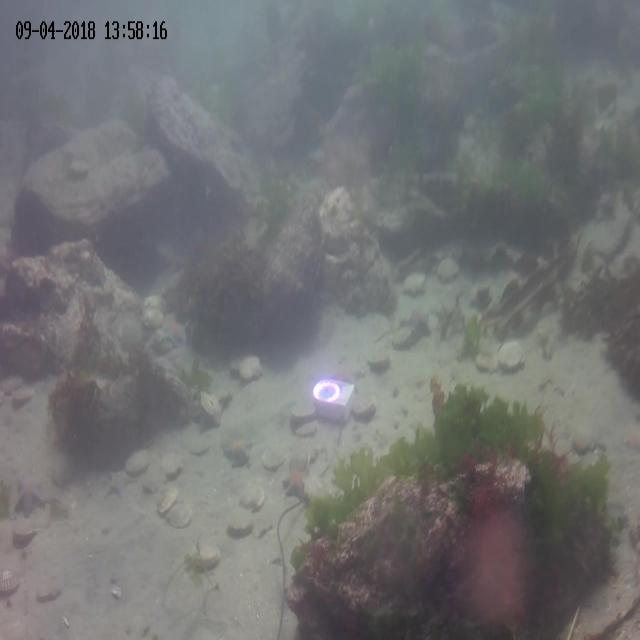scallop: (497, 342, 527, 375), (240, 480, 264, 517), (193, 544, 222, 573), (166, 502, 194, 532), (200, 386, 223, 421), (435, 254, 461, 284), (124, 446, 150, 476), (226, 514, 254, 541), (52, 456, 74, 489), (289, 399, 318, 424), (238, 355, 262, 385), (352, 394, 376, 424), (402, 271, 427, 297), (156, 489, 178, 518), (11, 522, 37, 546), (160, 453, 184, 479), (387, 327, 413, 351), (262, 444, 284, 472), (143, 306, 165, 332), (2, 568, 20, 599), (144, 293, 166, 317), (12, 384, 34, 408), (369, 350, 389, 375), (189, 433, 211, 455), (229, 356, 247, 379), (299, 418, 319, 433)
starfish: (12, 472, 47, 518), (330, 356, 364, 396), (192, 403, 222, 436), (224, 440, 256, 470), (408, 306, 431, 342), (282, 468, 306, 502), (105, 469, 128, 504), (164, 317, 187, 351), (85, 262, 106, 291), (154, 351, 176, 378)
